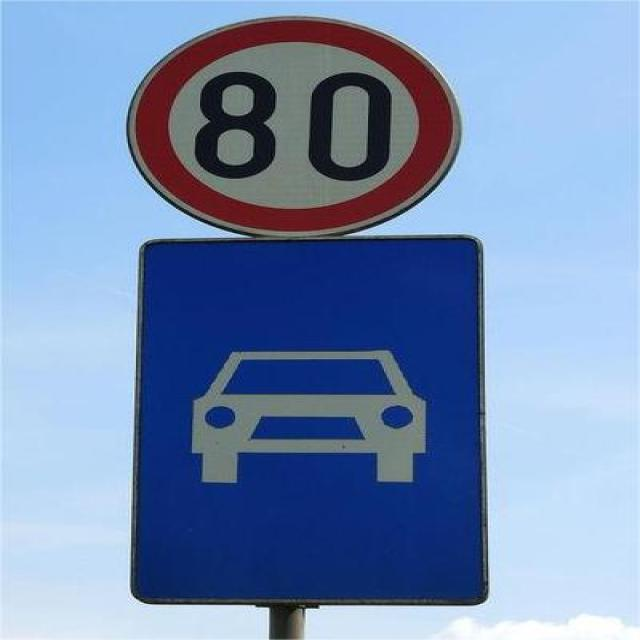speed limit 80: (117, 11, 465, 236)
